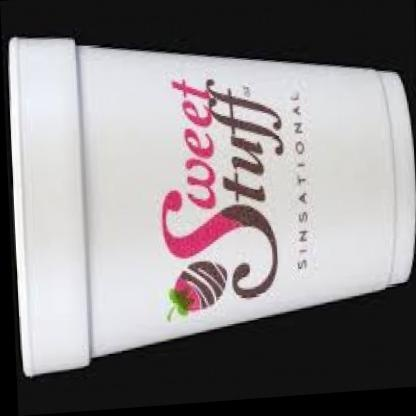trash: (9, 38, 415, 375)
